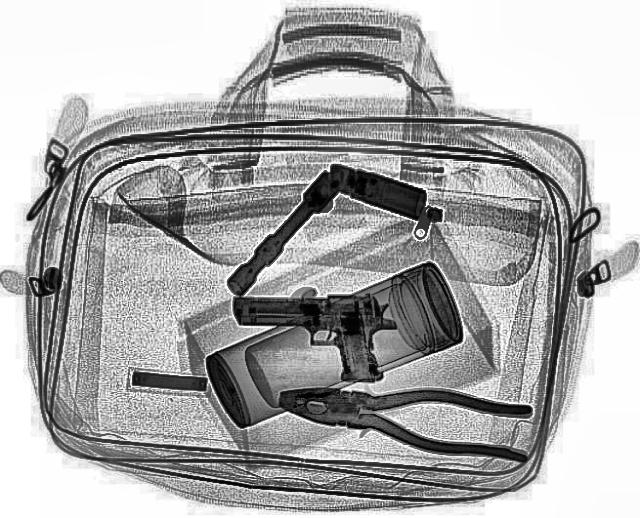Gun: (228, 290, 398, 384)
Pliers: (270, 372, 538, 462)
